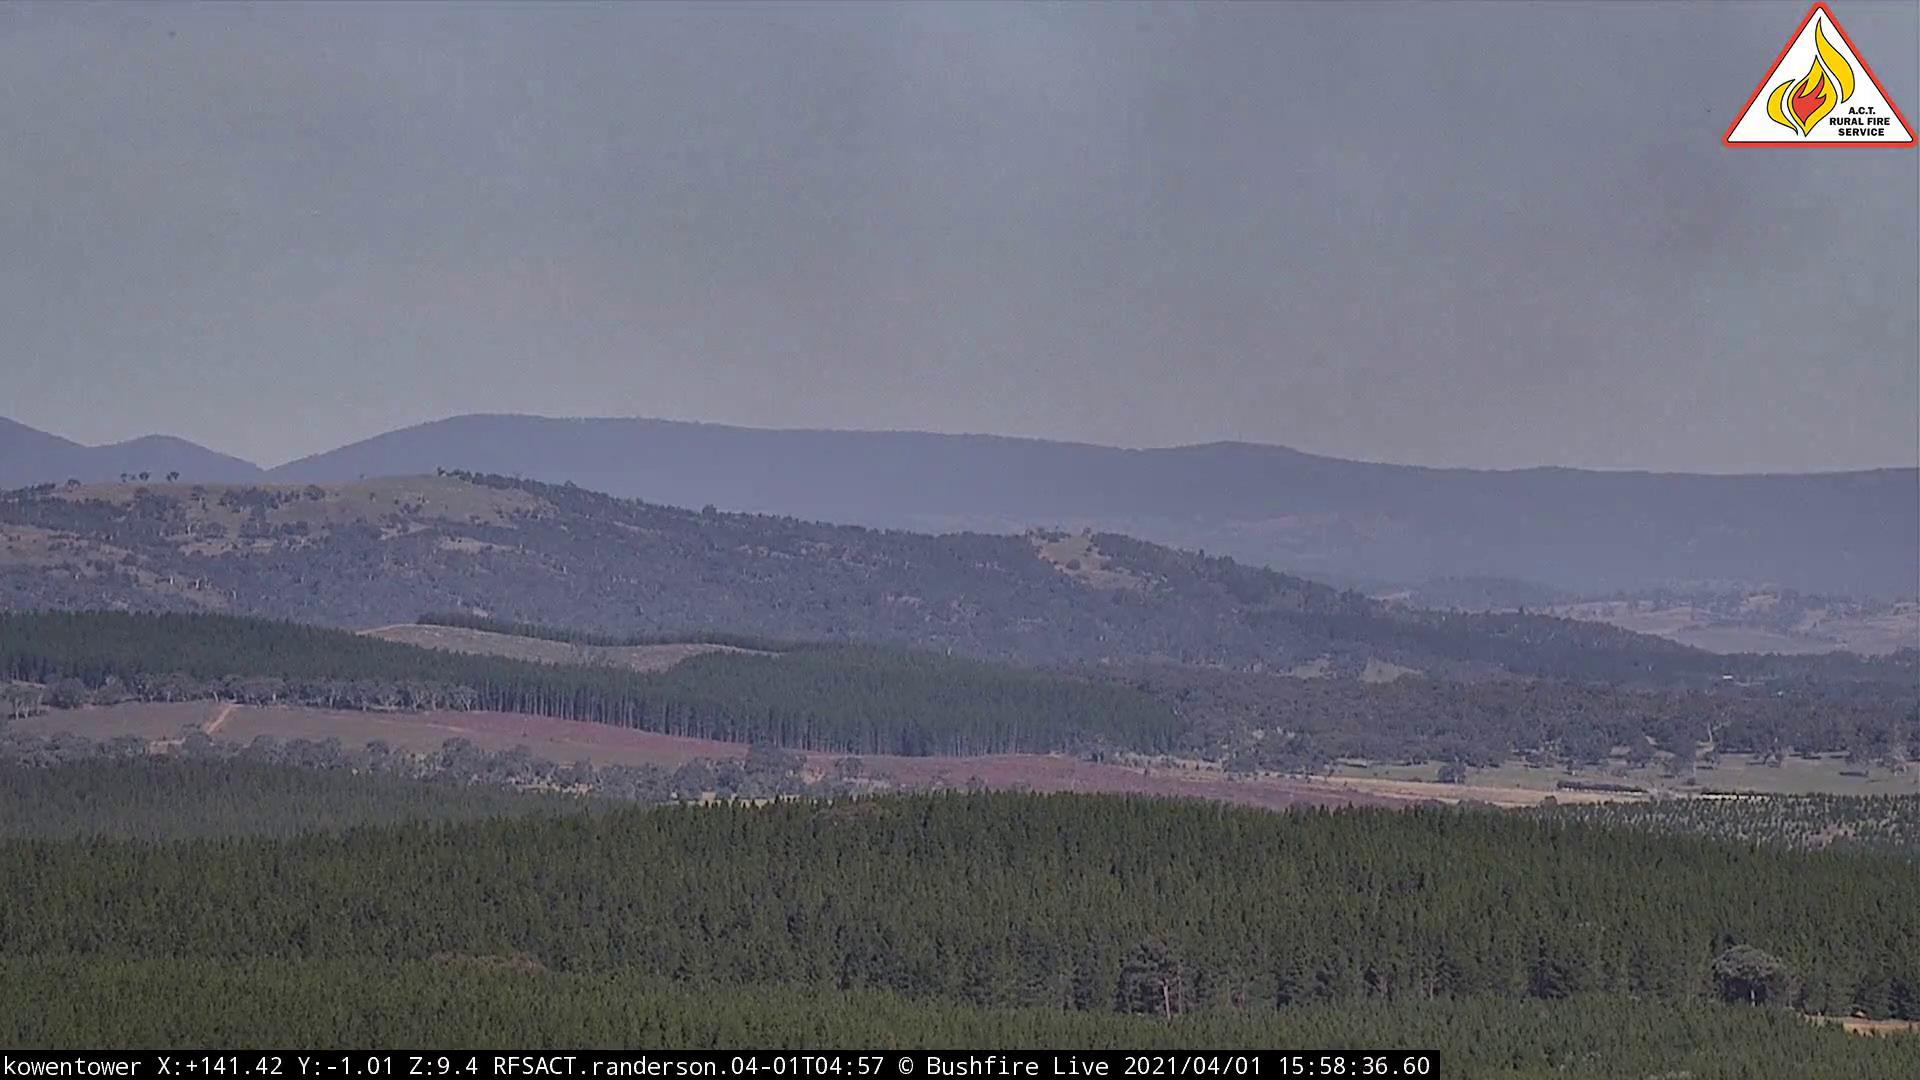Smoke: (1030, 57, 1920, 520)
